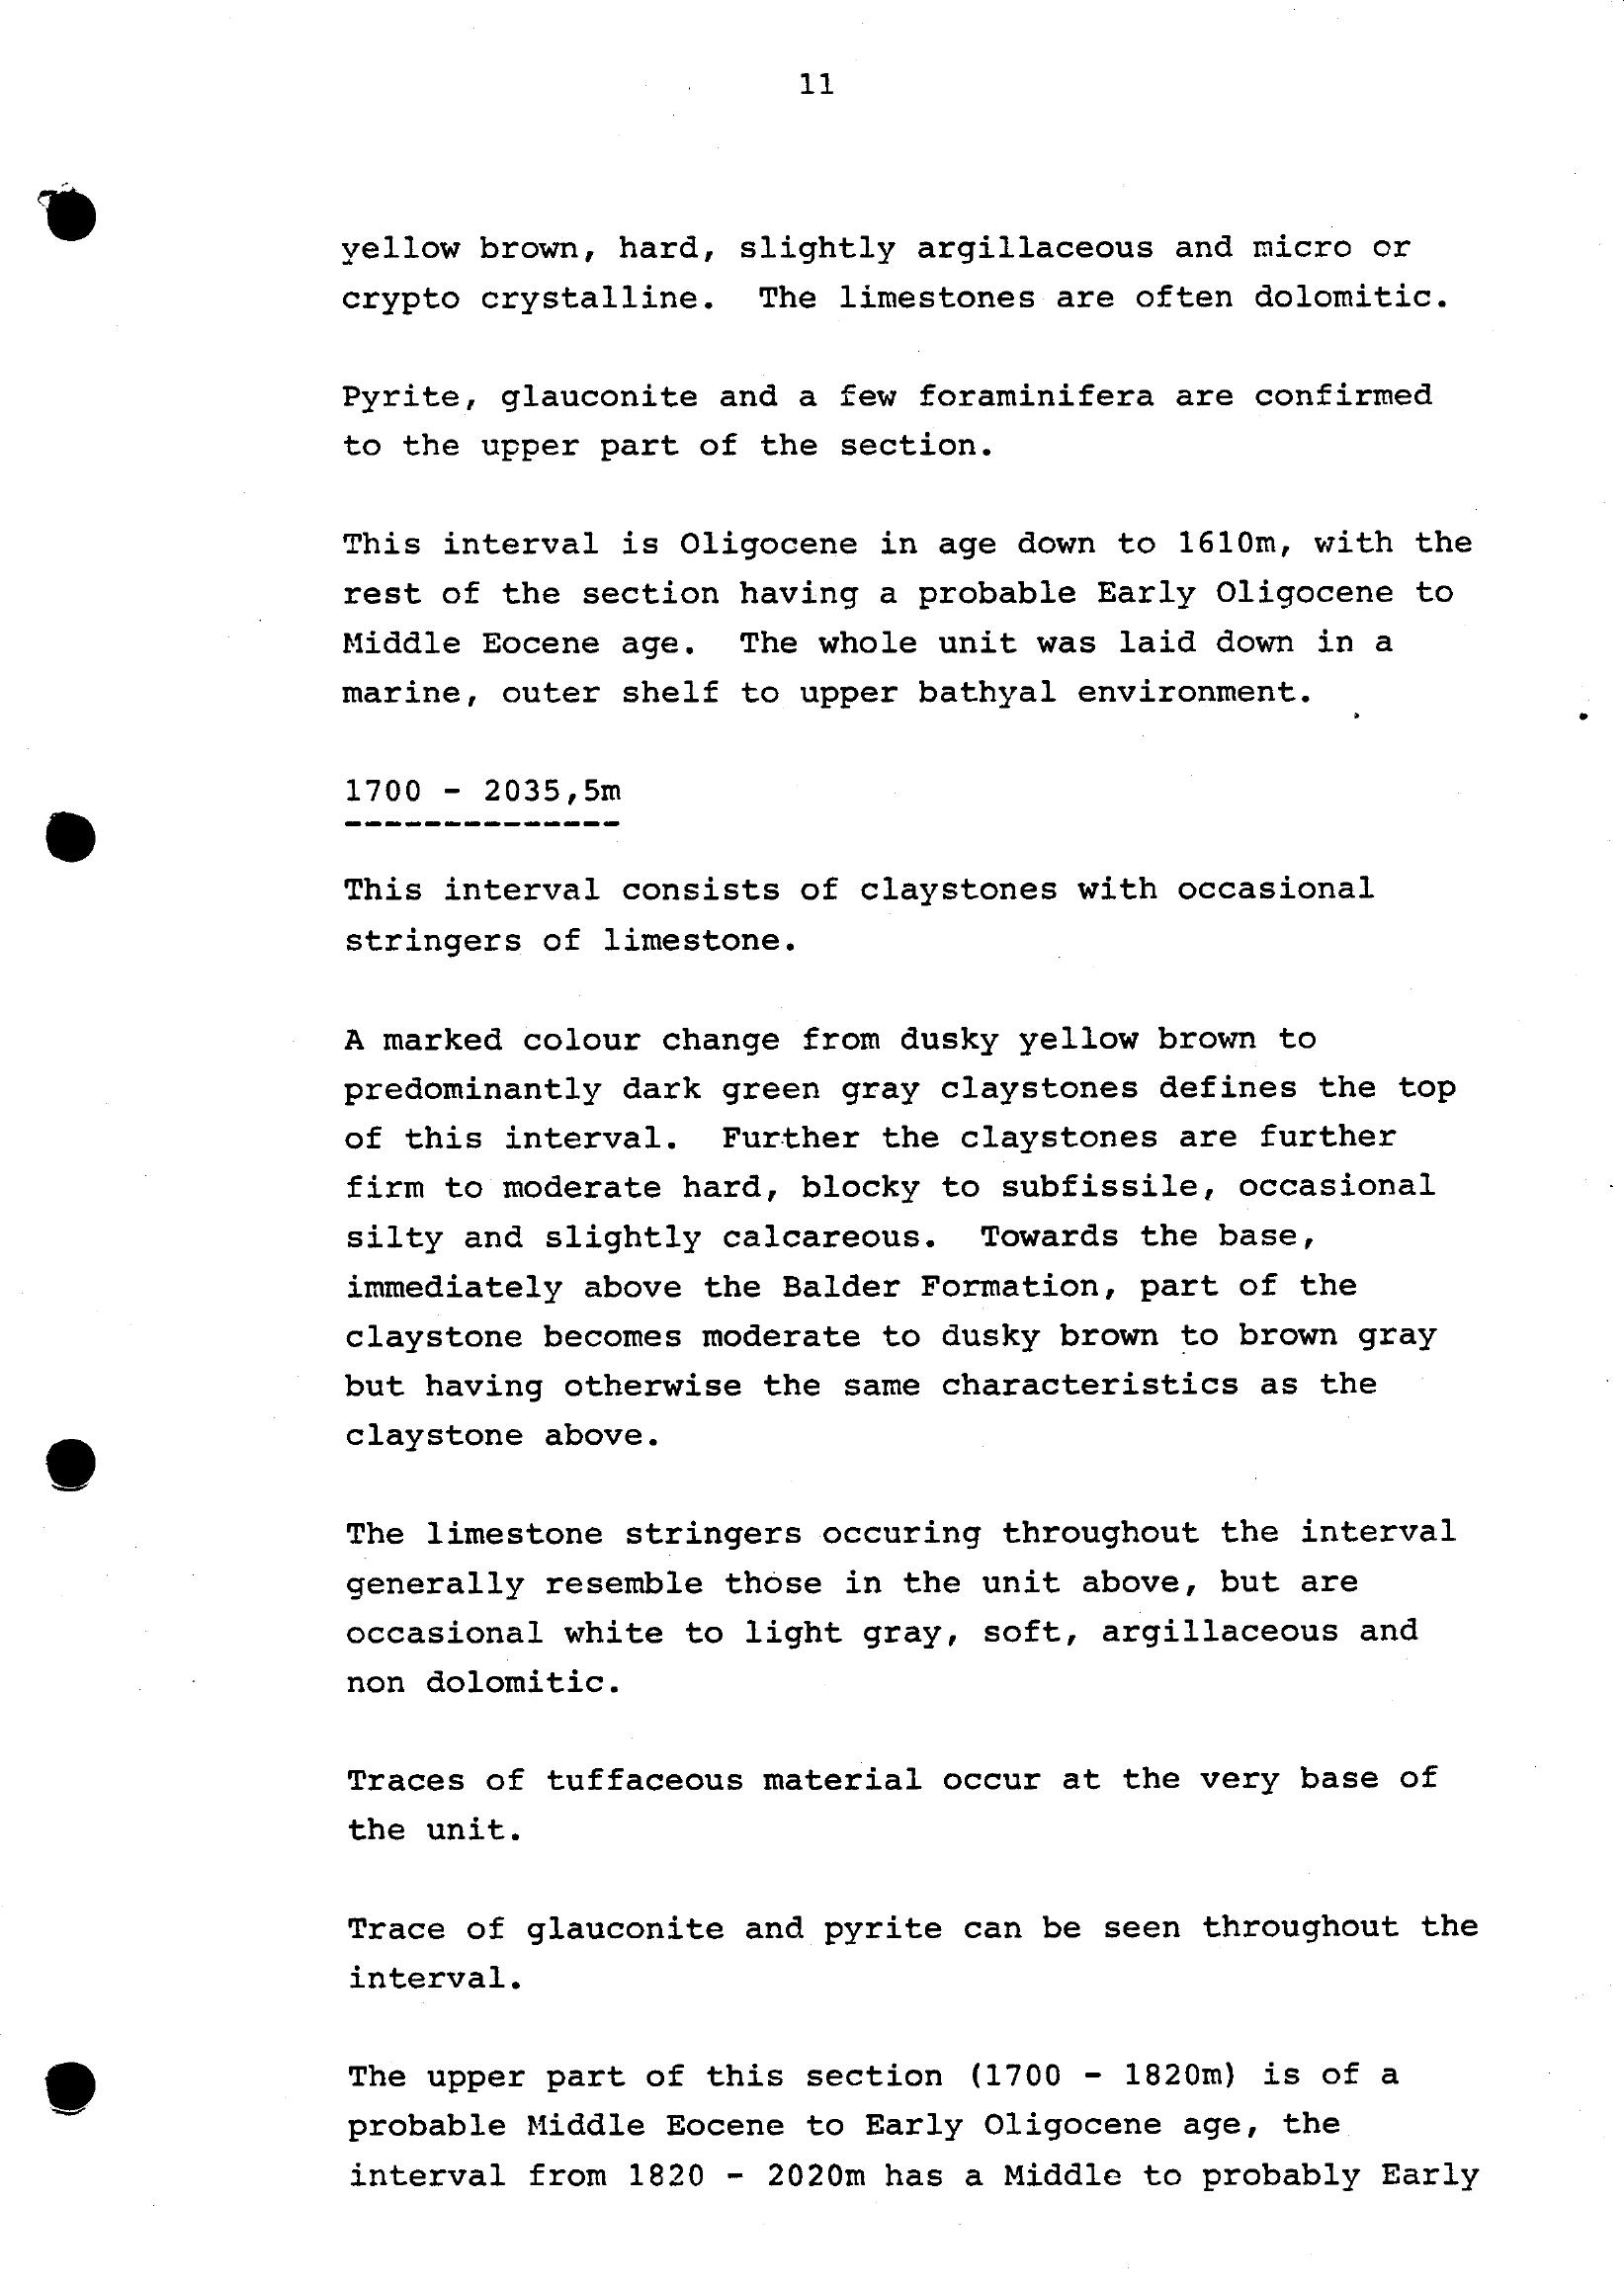text: (278, 183, 1527, 2230)
